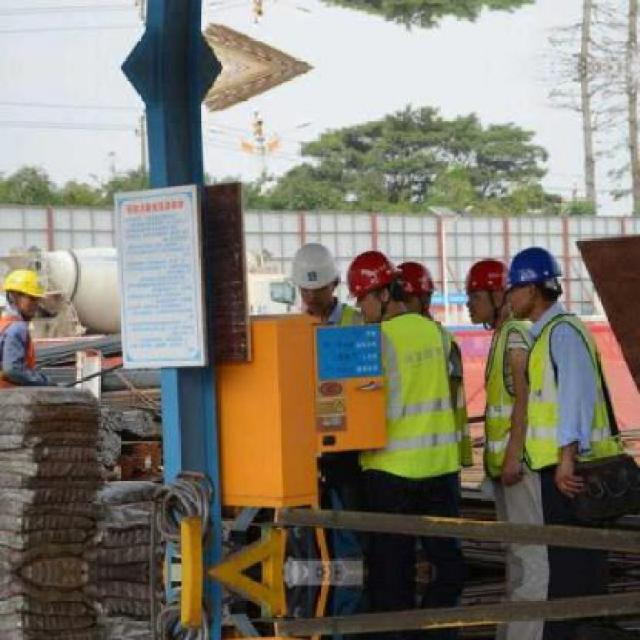Reflective-Jacket: (496, 310, 638, 484), (348, 315, 469, 491), (0, 308, 45, 388)
Safety-Helmet: (502, 241, 568, 297), (343, 248, 403, 302), (285, 238, 340, 292), (455, 252, 508, 303), (0, 263, 55, 307), (380, 251, 428, 300)
